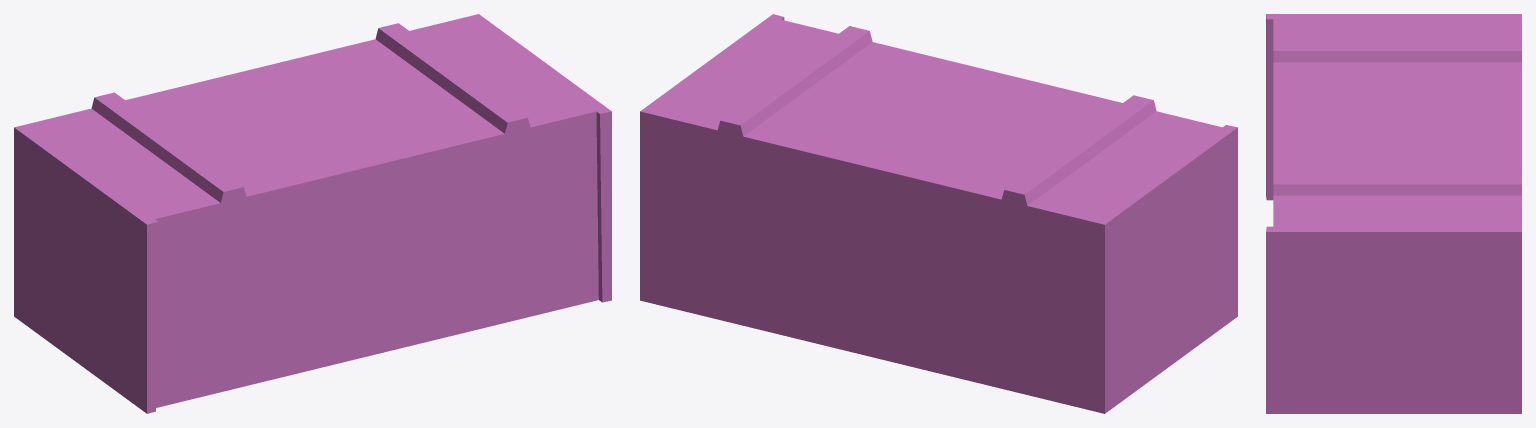
File: Crate.fbx
3 renders of one model, left to right at view 1: azimuth 30°, elevation 25°; view 2: azimuth 150°, elevation 25°; view 3: azimuth 270°, elevation 25°, orthographic. The views are drawn at different scales.
Parts seen in each view (by area): view 1: Crate; view 2: Crate; view 3: Crate.
Boxes of the visible parts, x1=… form: Crate: x1=14, y1=14, x2=611, y2=413; Crate: x1=640, y1=14, x2=1237, y2=413; Crate: x1=1266, y1=14, x2=1521, y2=413.
Bounding box in the file's own units: 135 × 55.4 × 66.96.
